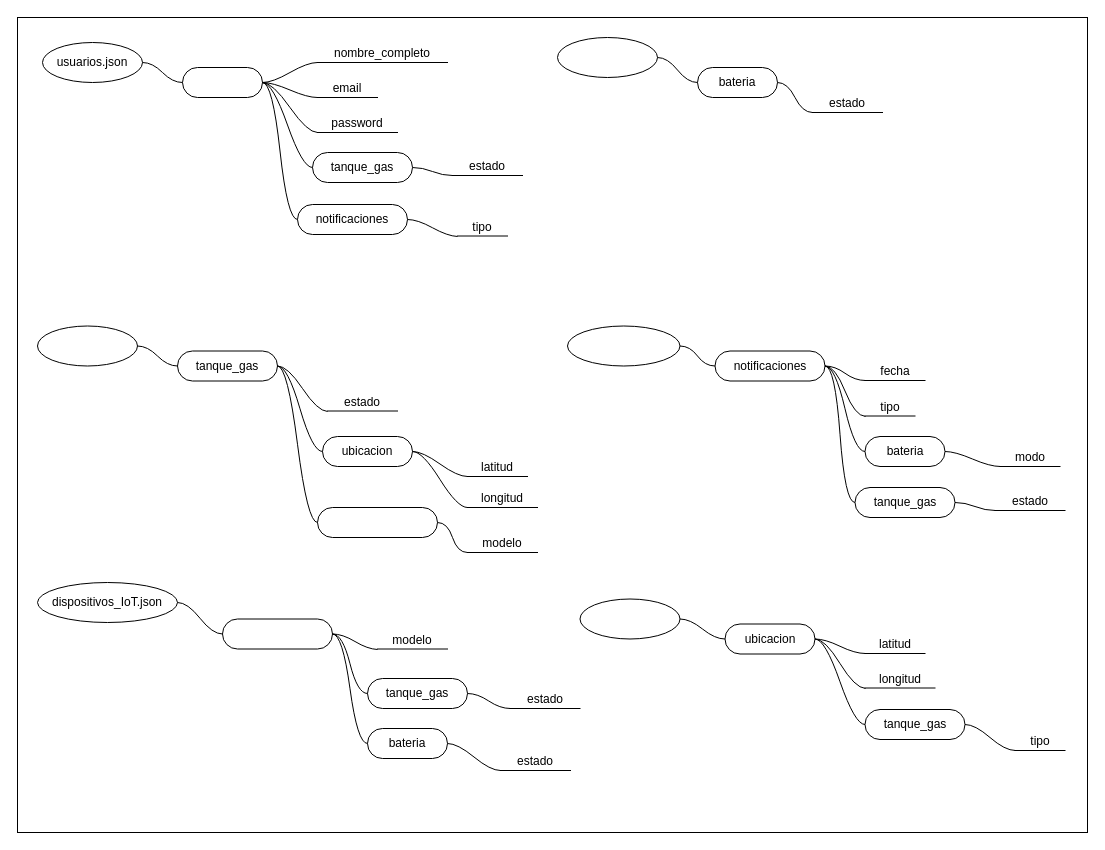
The diagram is 1105 pixels wide and 850 high, and some of its shapes have lost their labels. The shapes that lost their labels are listed below. From the top down, each one's box as (x1, y1, x2, y2) in pixels, then its label:
(556, 36, 658, 78): baterias.json
(182, 66, 262, 98): usuario
(36, 325, 138, 366): tanques_gas.json
(566, 325, 680, 366): notificacioness.json
(316, 506, 438, 538): dispositivo_IoT
(222, 618, 332, 649): dispositio_IoT
(579, 598, 680, 639): ubicaciones.json
